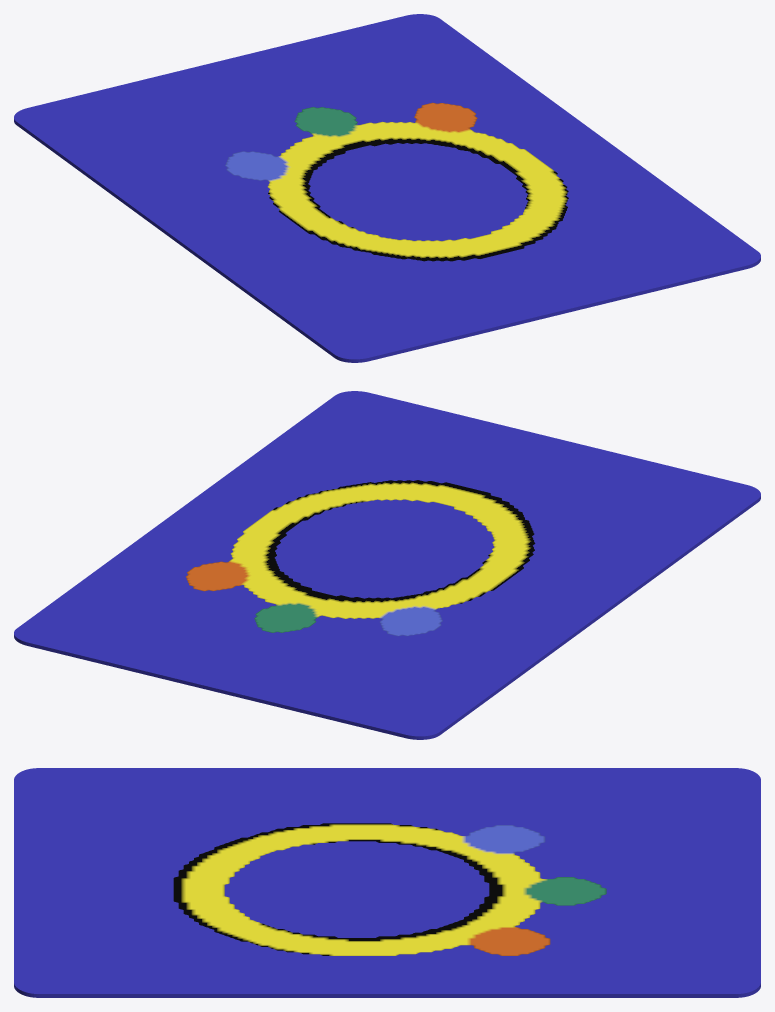
Rendered from SpiritBand.fbx.
3 renders of one model, top to bottom at view 1: azimuth 30°, elevation 25°; view 2: azimuth 150°, elevation 25°; view 3: azimuth 270°, elevation 25°, orthographic. The views are drawn at different scales.
Visible parts, largest first — view 1: Cube, Plane; view 2: Cube, Plane; view 3: Cube, Plane.
Boxes of the visible parts, box(x1,y1,x2,y2) form: Cube: box(14, 14, 760, 362); Plane: box(225, 102, 568, 261); Cube: box(14, 391, 760, 739); Plane: box(186, 480, 535, 636); Cube: box(14, 768, 760, 997); Plane: box(173, 823, 606, 955).
Size of the model in its own units: 63 by 0.55 by 88.
2 materials, 1 textured.
